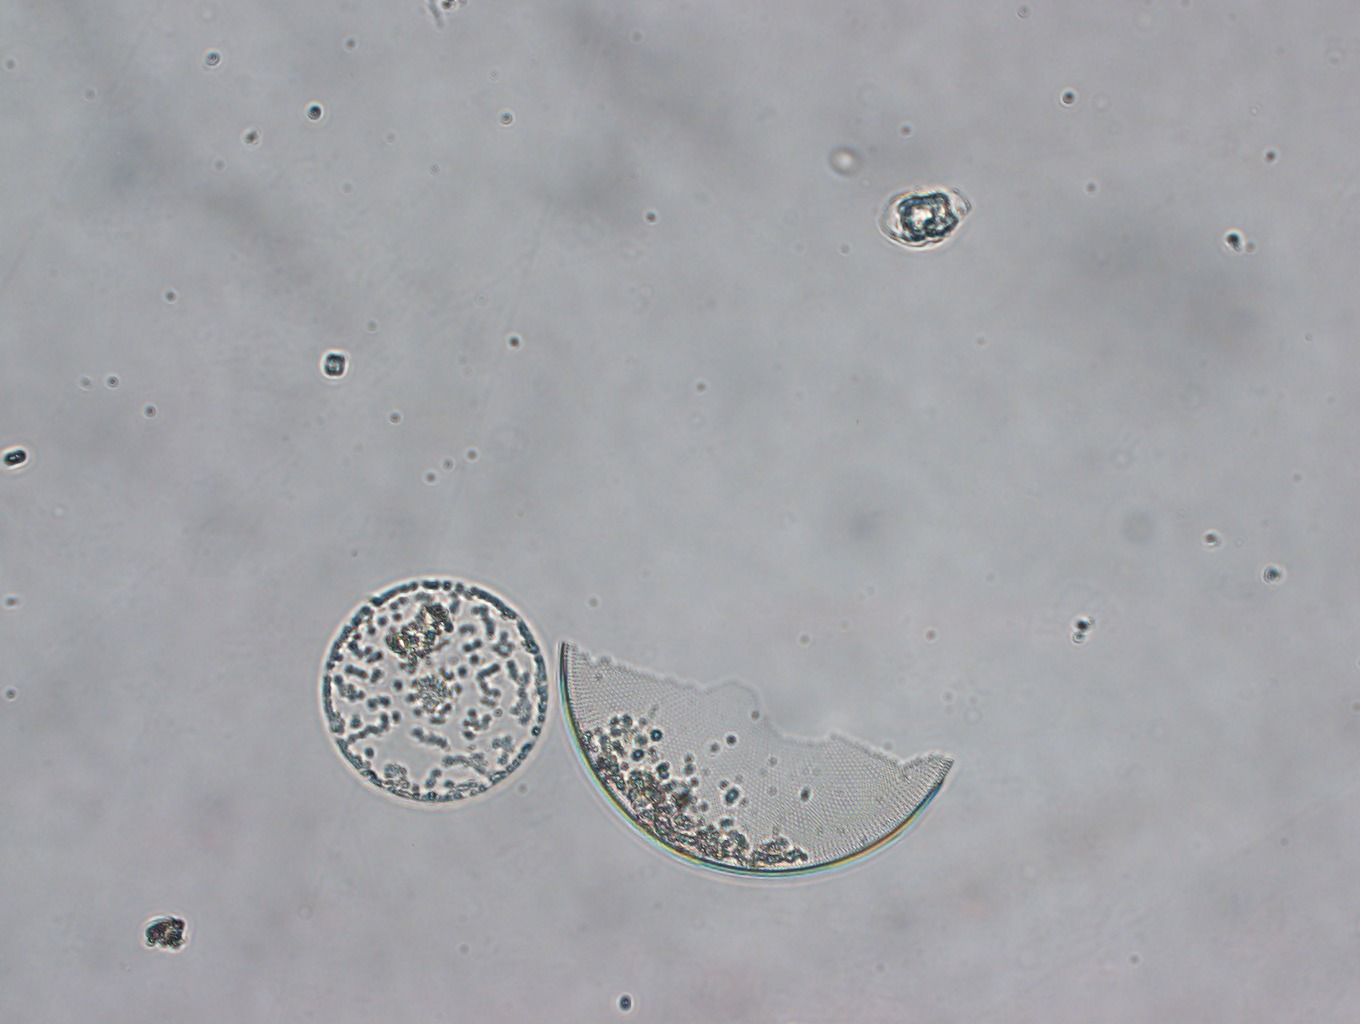coscinodiscus: (557, 634, 953, 880), (318, 578, 552, 807)
